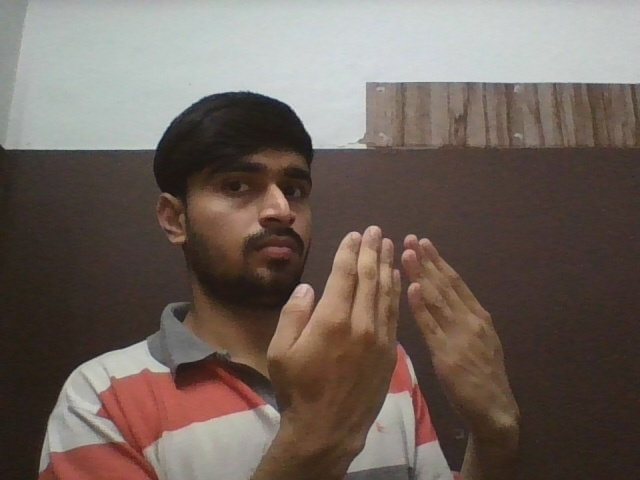Thankyou: (266, 226, 523, 441)
